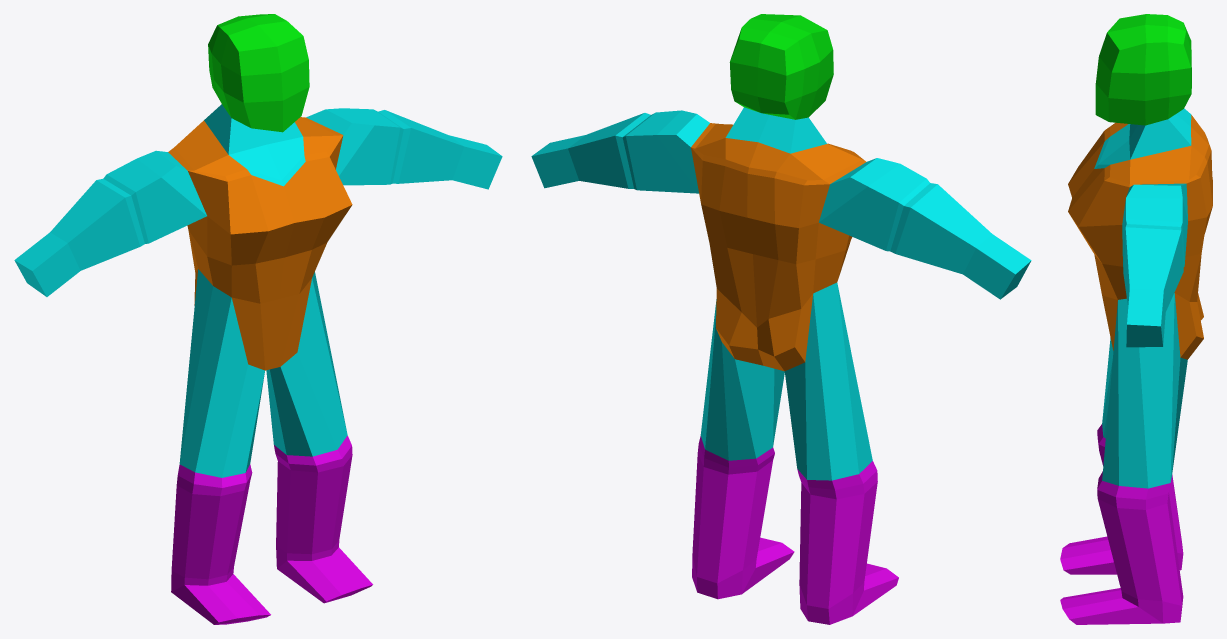
Rendered from Player_Luchadora_Block_TPose_UV.fbx.
3 renders of one model, left to right at view 1: azimuth 30°, elevation 25°; view 2: azimuth 150°, elevation 25°; view 3: azimuth 270°, elevation 25°, orthographic. The views are drawn at different scales.
Visible parts, largest first — view 1: CharacterBlockIn; view 2: CharacterBlockIn; view 3: CharacterBlockIn.
Boxes of the visible parts, left/top/right/bottom form: CharacterBlockIn: left=14, top=14, right=502, bottom=624; CharacterBlockIn: left=531, top=14, right=1031, bottom=624; CharacterBlockIn: left=1060, top=14, right=1212, bottom=624.
Bounding box in the file's own units: 47.47 × 194 × 171.
